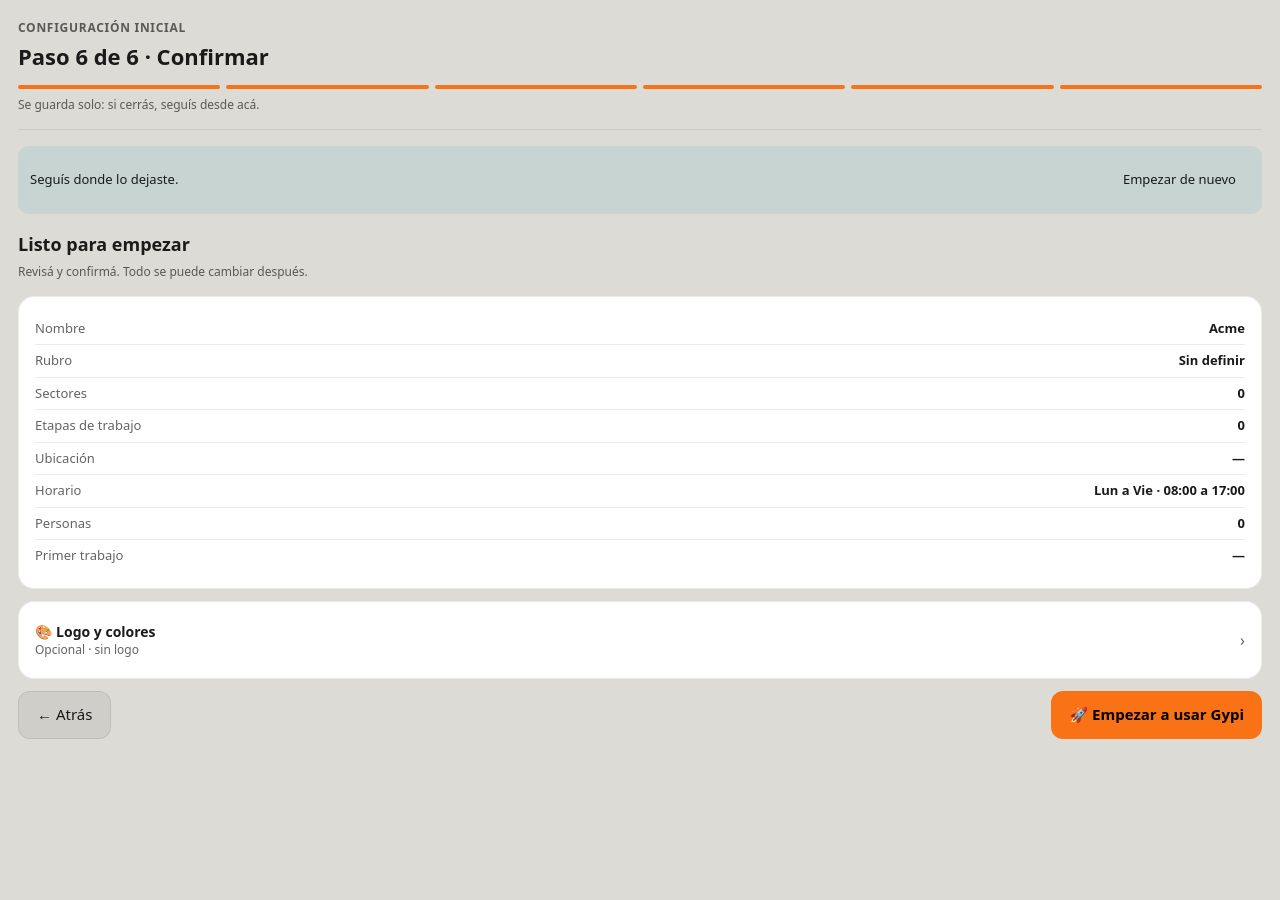
Test: Resumen — logo y colores son opcionales y están plegados
Click the button "🎨 Logo y colores Opcional · sin logo ›". click: (95, 631)
box: top-left (35, 618), bottom-right (1245, 662)
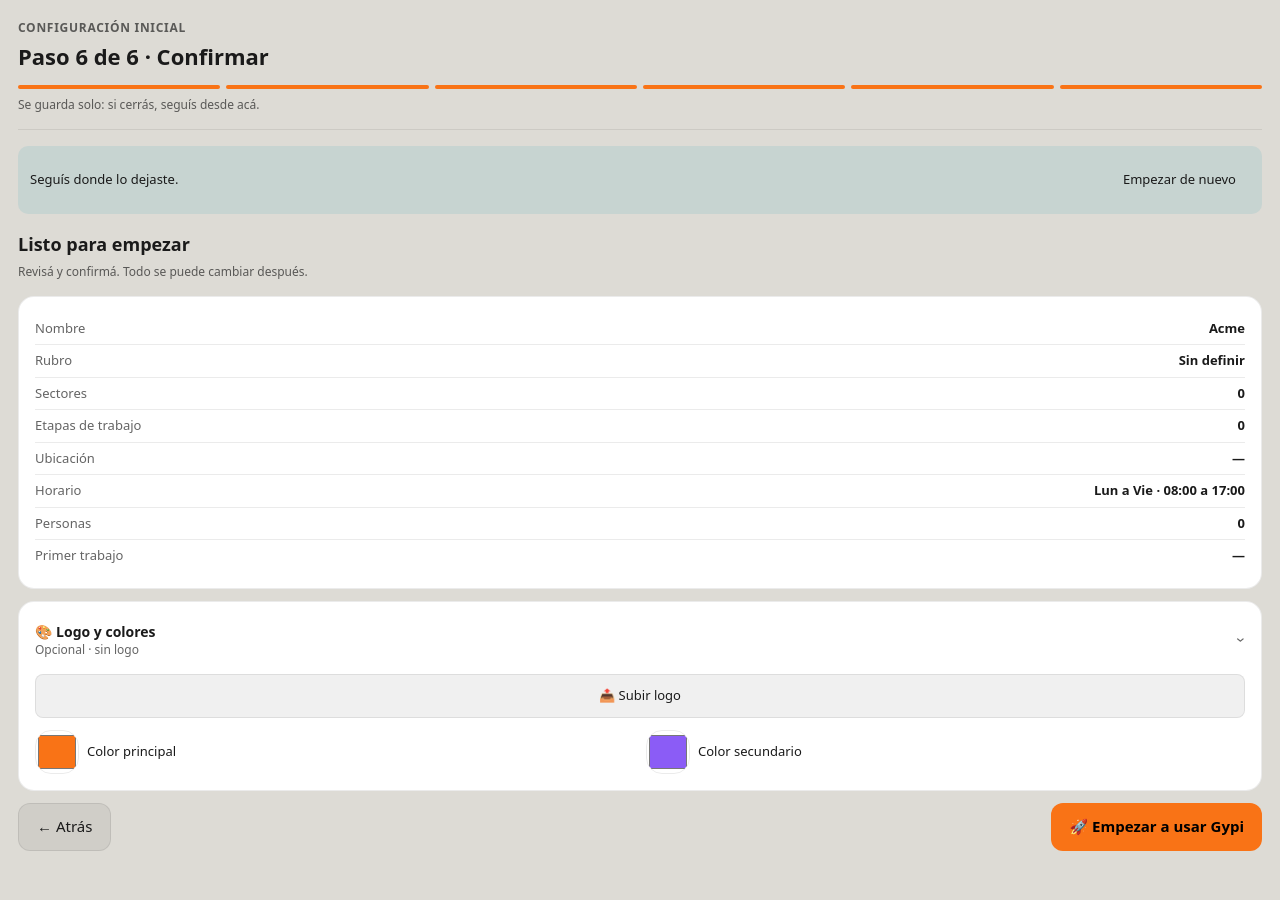
Result: the button "📤 Subir logo" is shown at top-left (35, 674), bottom-right (1245, 718)
